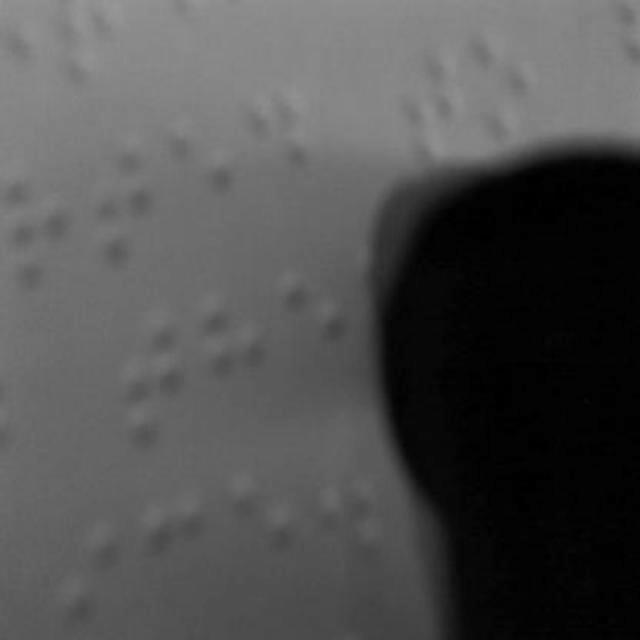braiile: (113, 300, 197, 460), (1, 142, 87, 288), (93, 117, 171, 273), (245, 75, 317, 241), (170, 101, 246, 253), (278, 258, 354, 407), (201, 282, 273, 434), (400, 40, 472, 174), (476, 17, 540, 141)
